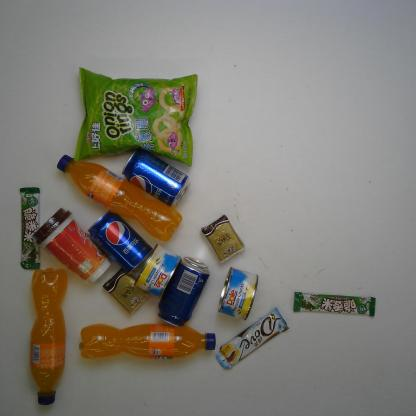Canned Food: (135, 244, 181, 298), (216, 267, 259, 321)
Chocolate: (215, 306, 290, 370), (290, 289, 376, 319), (19, 186, 41, 271)
Drink: (54, 152, 183, 242), (29, 267, 68, 406), (78, 323, 216, 361), (88, 209, 154, 275), (122, 150, 192, 209), (156, 257, 210, 327)
Instant Drink: (31, 206, 112, 284)
Puffed Food: (73, 64, 199, 165)
Tissue: (200, 214, 246, 264), (102, 268, 150, 315)
